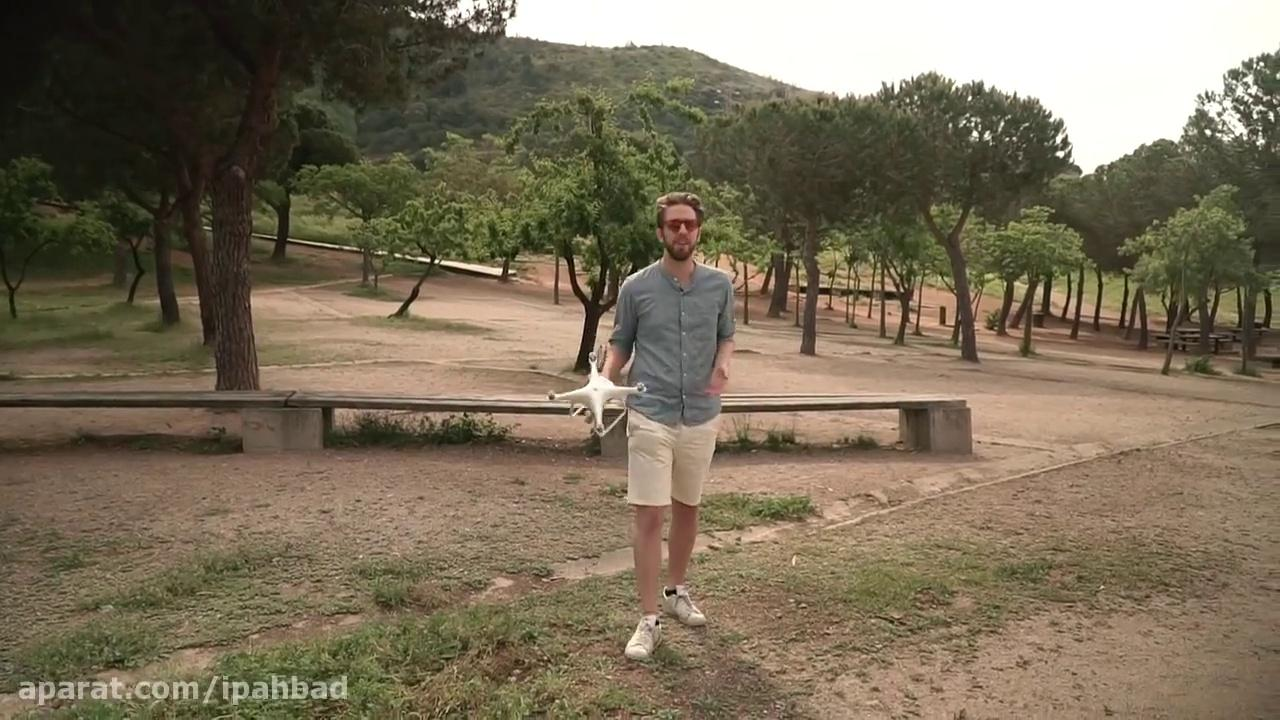drone: (547, 348, 648, 438)
